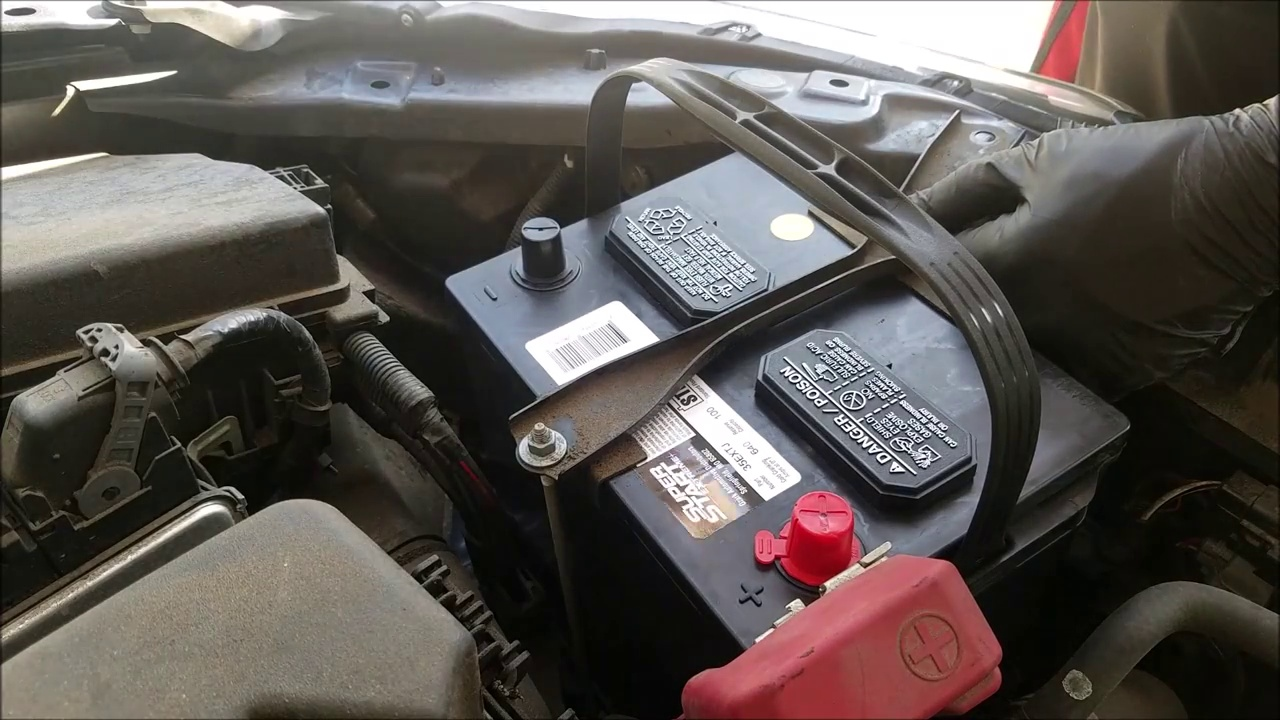battery: (445, 138, 1128, 674)
pos_disconnected: (708, 469, 981, 720)
